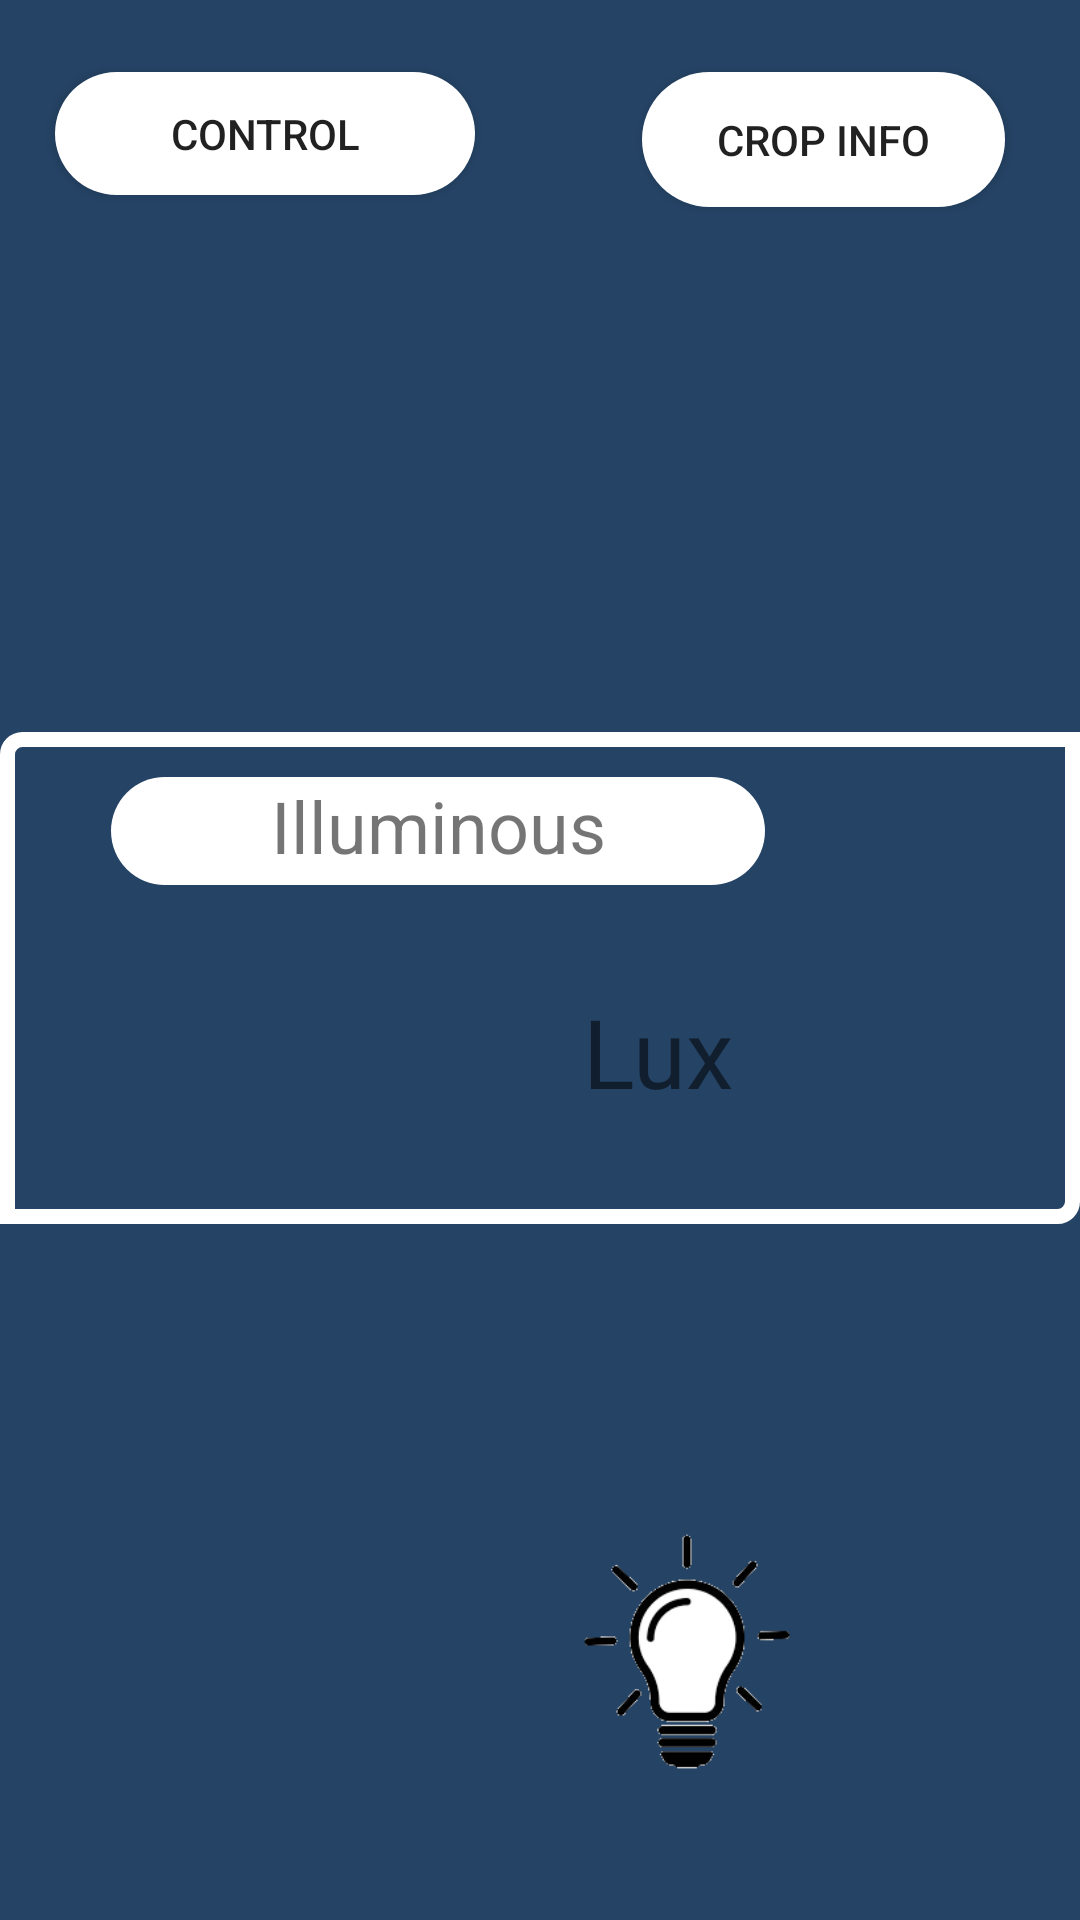

Icon bounding boxes for this 1080w x 1920h phone screenshot, format (x1, y1, x2, y2):
bright: (584, 1534, 790, 1769)
